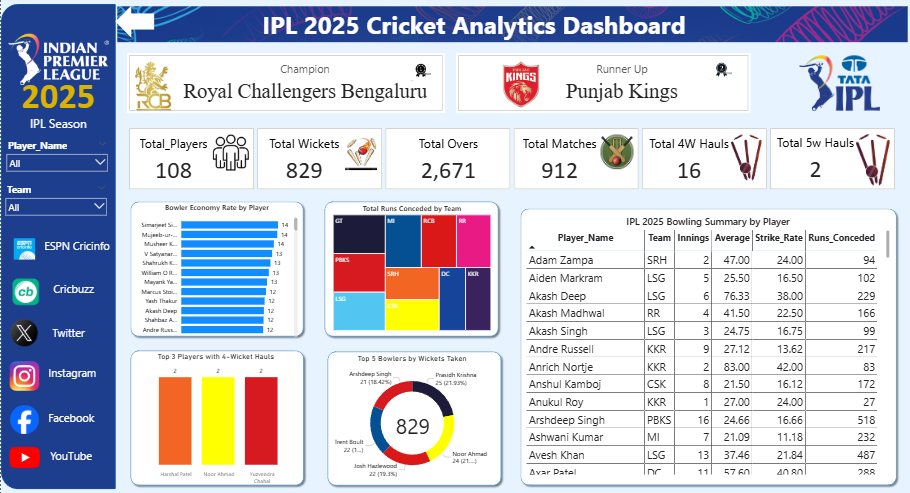

This screenshot's page, from the dashboard's own definition file:
{"tool":"powerbi","page":{"name":"Bowling Performance","canvas":[2000,1100],"ordinal":1},"visuals":[{"type":"shape","box":[0,20,252.5,1067.5],"z":0},{"type":"image","box":[251.4,19.6,1748.6,89.4],"z":1000},{"type":"cardVisual","fields":{"Data":["IPL2025Batters.Champion"]},"box":[277.2,127.6,699.6,132],"z":3000},{"type":"cardVisual","fields":{"Data":["IPL2025Bowlers.Total_Players","IPL2025Bowlers.Total Wickets","IPL2025Bowlers.Total Overs","IPL2025Bowlers.Total Matches","IPL2025Bowlers.Total 4W Hauls","IPL2025Bowlers.Total 5w Hauls"]},"box":[278,288,1698,144],"z":4000},{"type":"shape","box":[277.2,446.6,396,312.4],"z":5000},{"type":"shape","box":[704,446.6,398.2,312.4],"z":6000},{"type":"shape","box":[276.5,773.7,396.9,312.2],"z":7000},{"type":"shape","box":[711.7,777.4,397.8,310.2],"z":8000},{"type":"shape","box":[1134.9,461.5,842.8,624.3],"z":9000},{"type":"image","box":[1690,128,310,132],"z":10000},{"type":"image","box":[15,617.5,77.5,70],"z":11000},{"type":"textbox","box":[110,625,127.5,52.5],"z":12000},{"type":"image","box":[0,507.5,102.5,100],"z":13000},{"type":"textbox","box":[90,530,185,55],"z":14000},{"type":"image","box":[0,707.5,102.5,70],"z":15000},{"type":"image","box":[0,800,102.5,75],"z":16000},{"type":"image","box":[12.5,897.5,77.5,72.5],"z":17000},{"type":"image","box":[12.5,980,77.5,77.5],"z":18000},{"type":"textbox","box":[107.5,722.5,130,55],"z":19000},{"type":"textbox","box":[100,810,132.5,52.5],"z":20000},{"type":"textbox","box":[102.5,992.5,132.5,52.5],"z":21000},{"type":"textbox","box":[100,907.5,132.5,55],"z":22000},{"type":"card","fields":{"Values":["IPL2025Batters.IPL Season"]},"box":[17.5,155,217.5,155],"z":23000},{"type":"slicer","fields":{"Values":["IPL2025Batters.Player_Name"]},"box":[2.5,310,242.5,82.5],"z":24000},{"type":"slicer","fields":{"Values":["IPL2025Batters.Team"]},"box":[0,407.5,242.5,77.5],"z":25000},{"type":"cardVisual","fields":{"Data":["IPL2025Batters.Runner Up"]},"box":[1000,128,648,132],"z":26000},{"type":"image","box":[6,22,236,238],"z":27000},{"type":"image","box":[881.2,137.5,82.5,55],"z":28000},{"type":"image","box":[1542,136,86,56],"z":29000},{"type":"clusteredBarChart","title":"Bowler Economy Rate by Player ","fields":{"Category":["IPL2025Bowlers.Player_Name"],"Y":["Sum(IPL2025Bowlers.Economy)"]},"box":[292,456.2,365,302.9],"z":30000},{"type":"columnChart","title":"Top 3 Players with 4-Wicket Hauls","fields":{"Category":["IPL2025Bowlers.Player_Name"],"Y":["Sum(IPL2025Bowlers.4W)"]},"box":[290.8,784.6,364.9,299],"z":31000},{"type":"treemap","title":"Total Runs Conceded by Team","fields":{"Group":["IPL2025Bowlers.Team"],"Values":["Sum(IPL2025Bowlers.Runs_Conceded)"]},"box":[726.9,457.1,356.7,285.4],"z":32000},{"type":"donutChart","title":"Top 5 Bowlers by Wickets Taken","fields":{"Category":["IPL2025Bowlers.Player_Name"],"Y":["Sum(IPL2025Bowlers.Wickets)"]},"box":[726.3,790.5,357.5,284.9],"z":33000},{"type":"cardVisual","fields":{"Data":["Sum(IPL2025Bowlers.Wickets)"]},"box":[850.4,890.5,120.4,98.5],"z":34000},{"type":"tableEx","title":"IPL 2025 Bowling Summary by Player","fields":{"Values":["IPL2025Bowlers.Player_Name","IPL2025Bowlers.Team","Sum(IPL2025Bowlers.Innings)","Sum(IPL2025Bowlers.Average)","Sum(IPL2025Bowlers.Strike_Rate)","Sum(IPL2025Bowlers.Runs_Conceded)"]},"box":[1150.6,484,809.6,576.4],"z":35000},{"type":"shape","box":[251.4,22.3,86.6,72.6],"z":36000},{"type":"textbox","box":[569.8,22.3,1014,86.6],"z":36001}]}

Visuals, with their boxes on the page's 2000x1100 design canvas (x1, y1, x2, y2). These are canvas units, not pixel positions in the 910x493 screenshot, which may show the page scaled, cropped or inside an application window:
shape: locate(0, 20, 252, 1088)
image: locate(251, 20, 2000, 109)
cardVisual - IPL2025Batters.Champion: locate(277, 128, 977, 260)
cardVisual - IPL2025Bowlers.Total_Players x IPL2025Bowlers.Total Wickets: locate(278, 288, 1976, 432)
shape: locate(277, 447, 673, 759)
shape: locate(704, 447, 1102, 759)
shape: locate(276, 774, 673, 1086)
shape: locate(712, 777, 1110, 1088)
shape: locate(1135, 462, 1978, 1086)
image: locate(1690, 128, 2000, 260)
image: locate(15, 618, 92, 688)
textbox: locate(110, 625, 238, 678)
image: locate(0, 508, 102, 608)
textbox: locate(90, 530, 275, 585)
image: locate(0, 708, 102, 778)
image: locate(0, 800, 102, 875)
image: locate(12, 898, 90, 970)
image: locate(12, 980, 90, 1058)
textbox: locate(108, 722, 238, 778)
textbox: locate(100, 810, 232, 862)
textbox: locate(102, 992, 235, 1045)
textbox: locate(100, 908, 232, 962)
card - IPL2025Batters.IPL Season: locate(18, 155, 235, 310)
slicer - IPL2025Batters.Player_Name: locate(2, 310, 245, 392)
slicer - IPL2025Batters.Team: locate(0, 408, 242, 485)
cardVisual - IPL2025Batters.Runner Up: locate(1000, 128, 1648, 260)
image: locate(6, 22, 242, 260)
image: locate(881, 138, 964, 192)
image: locate(1542, 136, 1628, 192)
"Bowler Economy Rate by Player " clusteredBarChart: locate(292, 456, 657, 759)
"Top 3 Players with 4-Wicket Hauls" columnChart: locate(291, 785, 656, 1084)
"Total Runs Conceded by Team" treemap: locate(727, 457, 1084, 742)
"Top 5 Bowlers by Wickets Taken" donutChart: locate(726, 790, 1084, 1075)
cardVisual - Sum(IPL2025Bowlers.Wickets): locate(850, 890, 971, 989)
"IPL 2025 Bowling Summary by Player" tableEx: locate(1151, 484, 1960, 1060)
shape: locate(251, 22, 338, 95)
textbox: locate(570, 22, 1584, 109)
